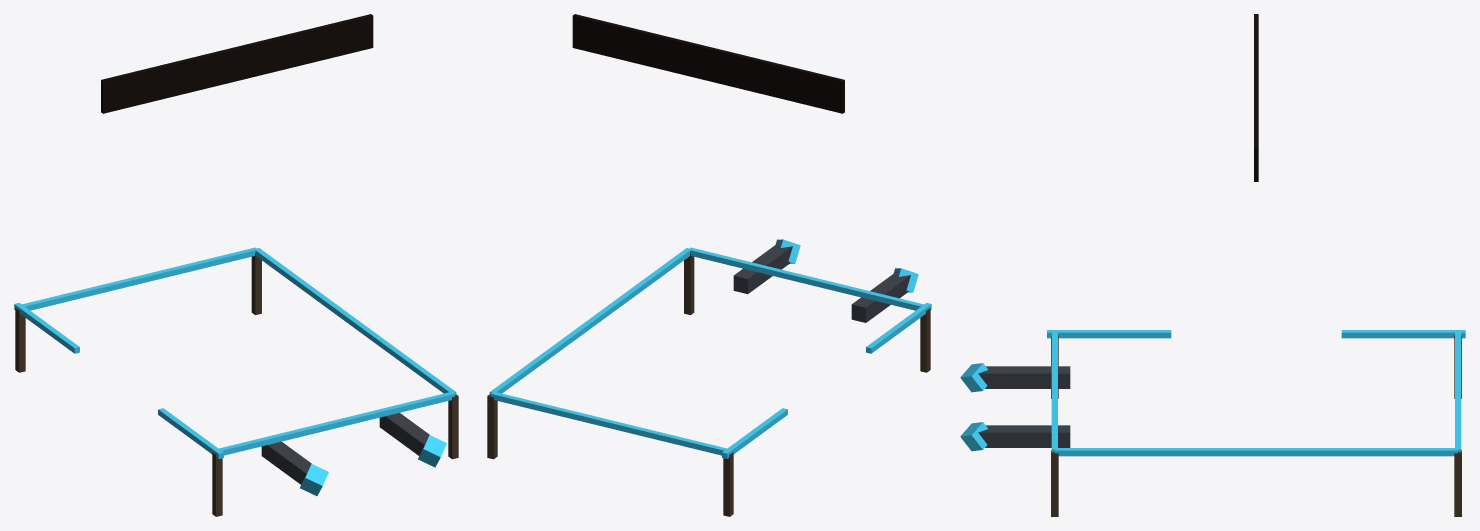
Rendered from skyfleet_bake2_18.glb.
The picture shows the model from 3 angles, left to right: view 1: azimuth 30°, elevation 25°; view 2: azimuth 150°, elevation 25°; view 3: azimuth 270°, elevation 25°; orthographic projection. The views are drawn at different scales.
Visible parts, largest first — view 1: baked; view 2: baked; view 3: baked.
Part boxes in pixels (bbox=[...]): baked: bbox=[14, 14, 458, 516]; baked: bbox=[487, 14, 931, 516]; baked: bbox=[960, 14, 1465, 516].
Size of the model in its own units: 4.12 by 5.34 by 6.52.
